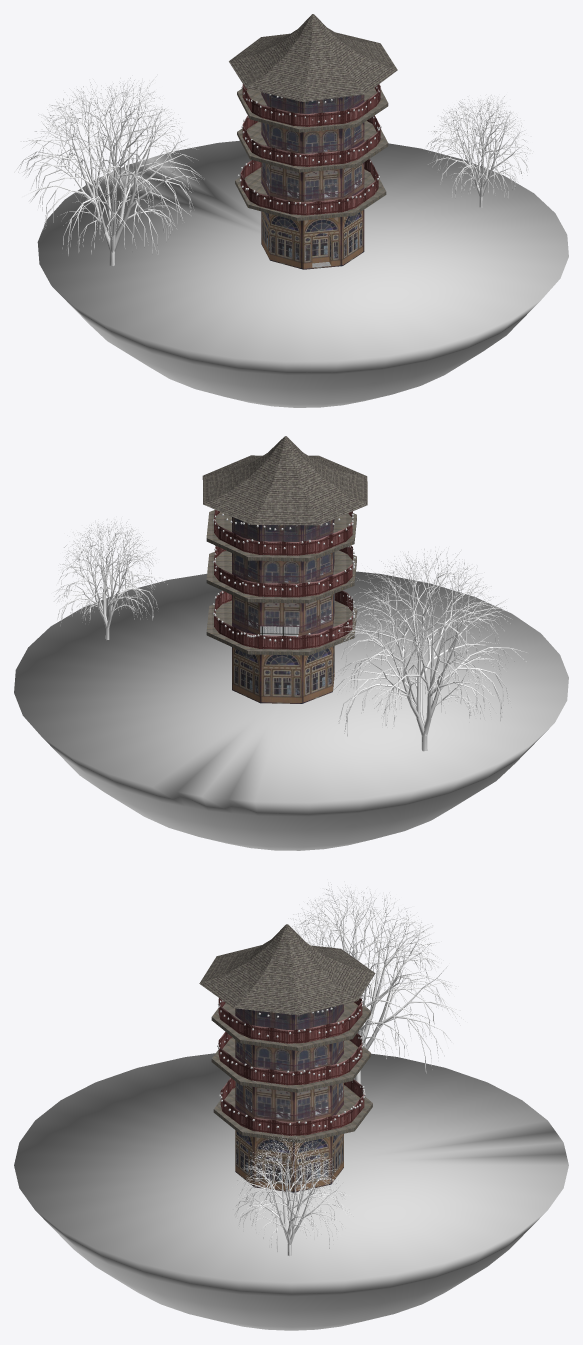
File: patterson_park.glb
3 renders of one model, top to bottom at view 1: azimuth 30°, elevation 25°; view 2: azimuth 150°, elevation 25°; view 3: azimuth 270°, elevation 25°, orthographic. The views are drawn at different scales.
Visible parts, largest first — view 1: ground_sphere, Pagoda, Dark Wood Tree 4, Dark Wood Tree 3; view 2: ground_sphere, Pagoda, Dark Wood Tree 4, Dark Wood Tree 3; view 3: ground_sphere, Pagoda, Dark Wood Tree 4, Dark Wood Tree 3.
Boxes of the visible parts, x1,y1,x2,y2 form: ground_sphere: [37, 140, 568, 407]; Pagoda: [229, 14, 397, 269]; Dark Wood Tree 4: [16, 76, 204, 265]; Dark Wood Tree 3: [426, 95, 534, 207]; ground_sphere: [14, 571, 568, 850]; Pagoda: [202, 436, 367, 703]; Dark Wood Tree 4: [329, 546, 527, 751]; Dark Wood Tree 3: [54, 518, 167, 640]; ground_sphere: [14, 1053, 568, 1330]; Pagoda: [199, 924, 375, 1192]; Dark Wood Tree 4: [288, 882, 464, 1084]; Dark Wood Tree 3: [232, 1134, 351, 1256].
Bounding box in the file's own units: 42.3 × 31.32 × 41.57.
Materials: 11 (8 with a texture image).
